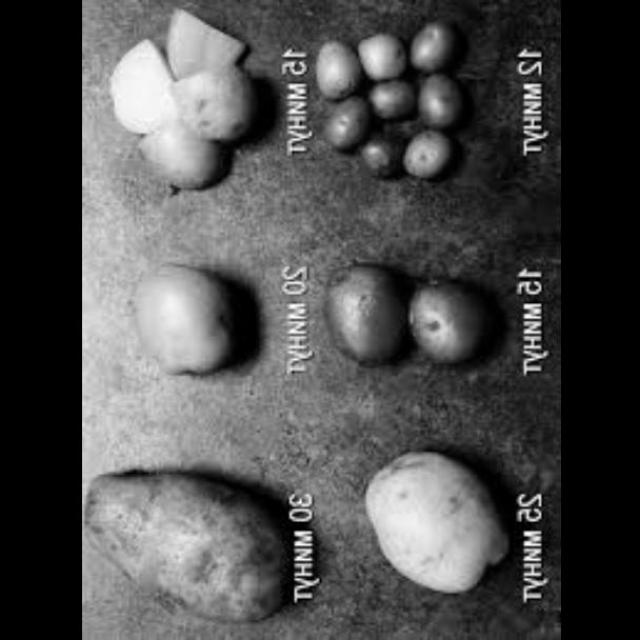khoai tay: (81, 462, 313, 639), (95, 8, 271, 210), (348, 448, 512, 626), (316, 17, 458, 202), (121, 256, 275, 413), (314, 256, 412, 397), (396, 271, 488, 384)
